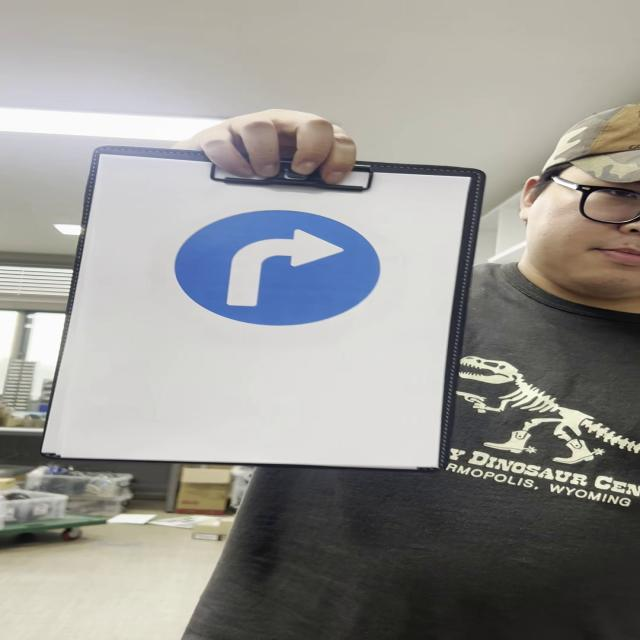right: (177, 210, 384, 329)
